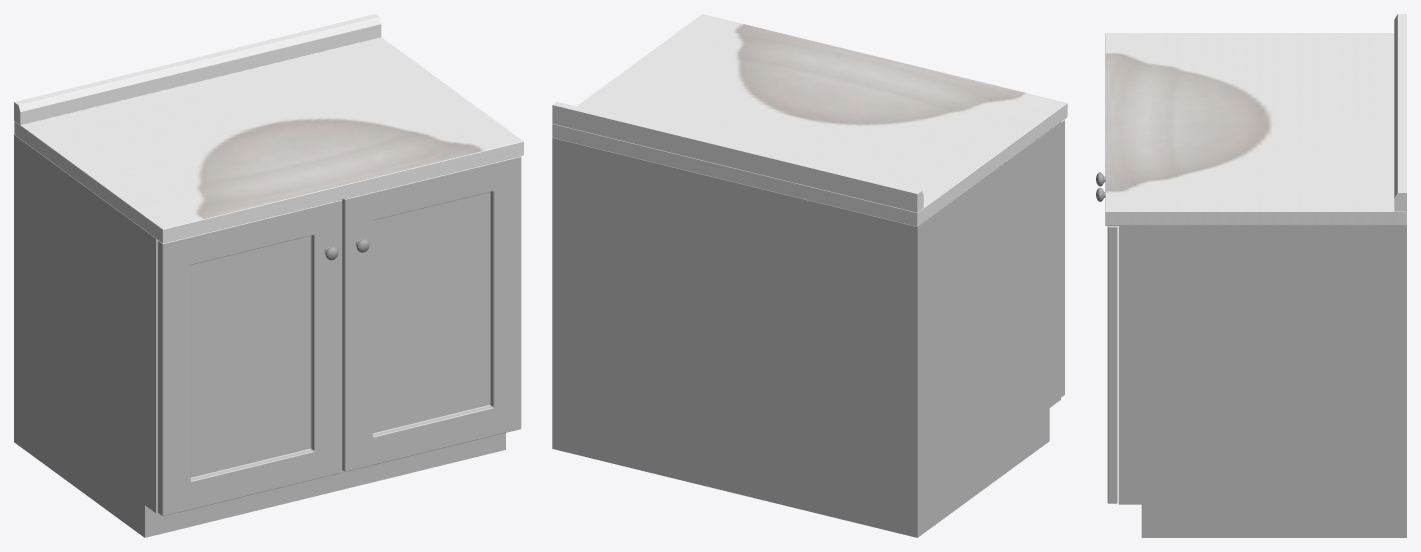
Rendered from kitchenLowerCabinet.obj.
3 views of the same model, side by side, from view 1: azimuth 30°, elevation 25°; view 2: azimuth 150°, elevation 25°; view 3: azimuth 270°, elevation 25° (orthographic).
Visible parts, largest first — view 1: Door-and-Drawers-Right_Cube.003, Worktop-Right.001_Cube.008, Base-unit-Box-Right.001_Cube.014, Plane.000; view 2: Base-unit-Box-Right.001_Cube.014, Worktop-Right.001_Cube.008, Plane.000, Door-and-Drawers-Right_Cube.003; view 3: Base-unit-Box-Right.001_Cube.014, Worktop-Right.001_Cube.008, Door-and-Drawers-Right_Cube.003, Plane.000.
Boxes of the visible parts, <box> form: Door-and-Drawers-Right_Cube.003: <box>158,156,521,516</box>; Worktop-Right.001_Cube.008: <box>14,37,523,243</box>; Base-unit-Box-Right.001_Cube.014: <box>14,134,505,537</box>; Plane.000: <box>14,14,381,124</box>; Base-unit-Box-Right.001_Cube.014: <box>552,122,1060,537</box>; Worktop-Right.001_Cube.008: <box>552,14,1067,226</box>; Plane.000: <box>552,101,923,212</box>; Door-and-Drawers-Right_Cube.003: <box>1061,119,1064,397</box>; Base-unit-Box-Right.001_Cube.014: <box>1118,226,1406,537</box>; Worktop-Right.001_Cube.008: <box>1105,33,1406,225</box>; Door-and-Drawers-Right_Cube.003: <box>1107,226,1117,503</box>; Plane.000: <box>1394,14,1406,211</box>.
Size of the model in its own units: 97.59 by 87.8 by 71.69.
4 materials, 1 textured.
